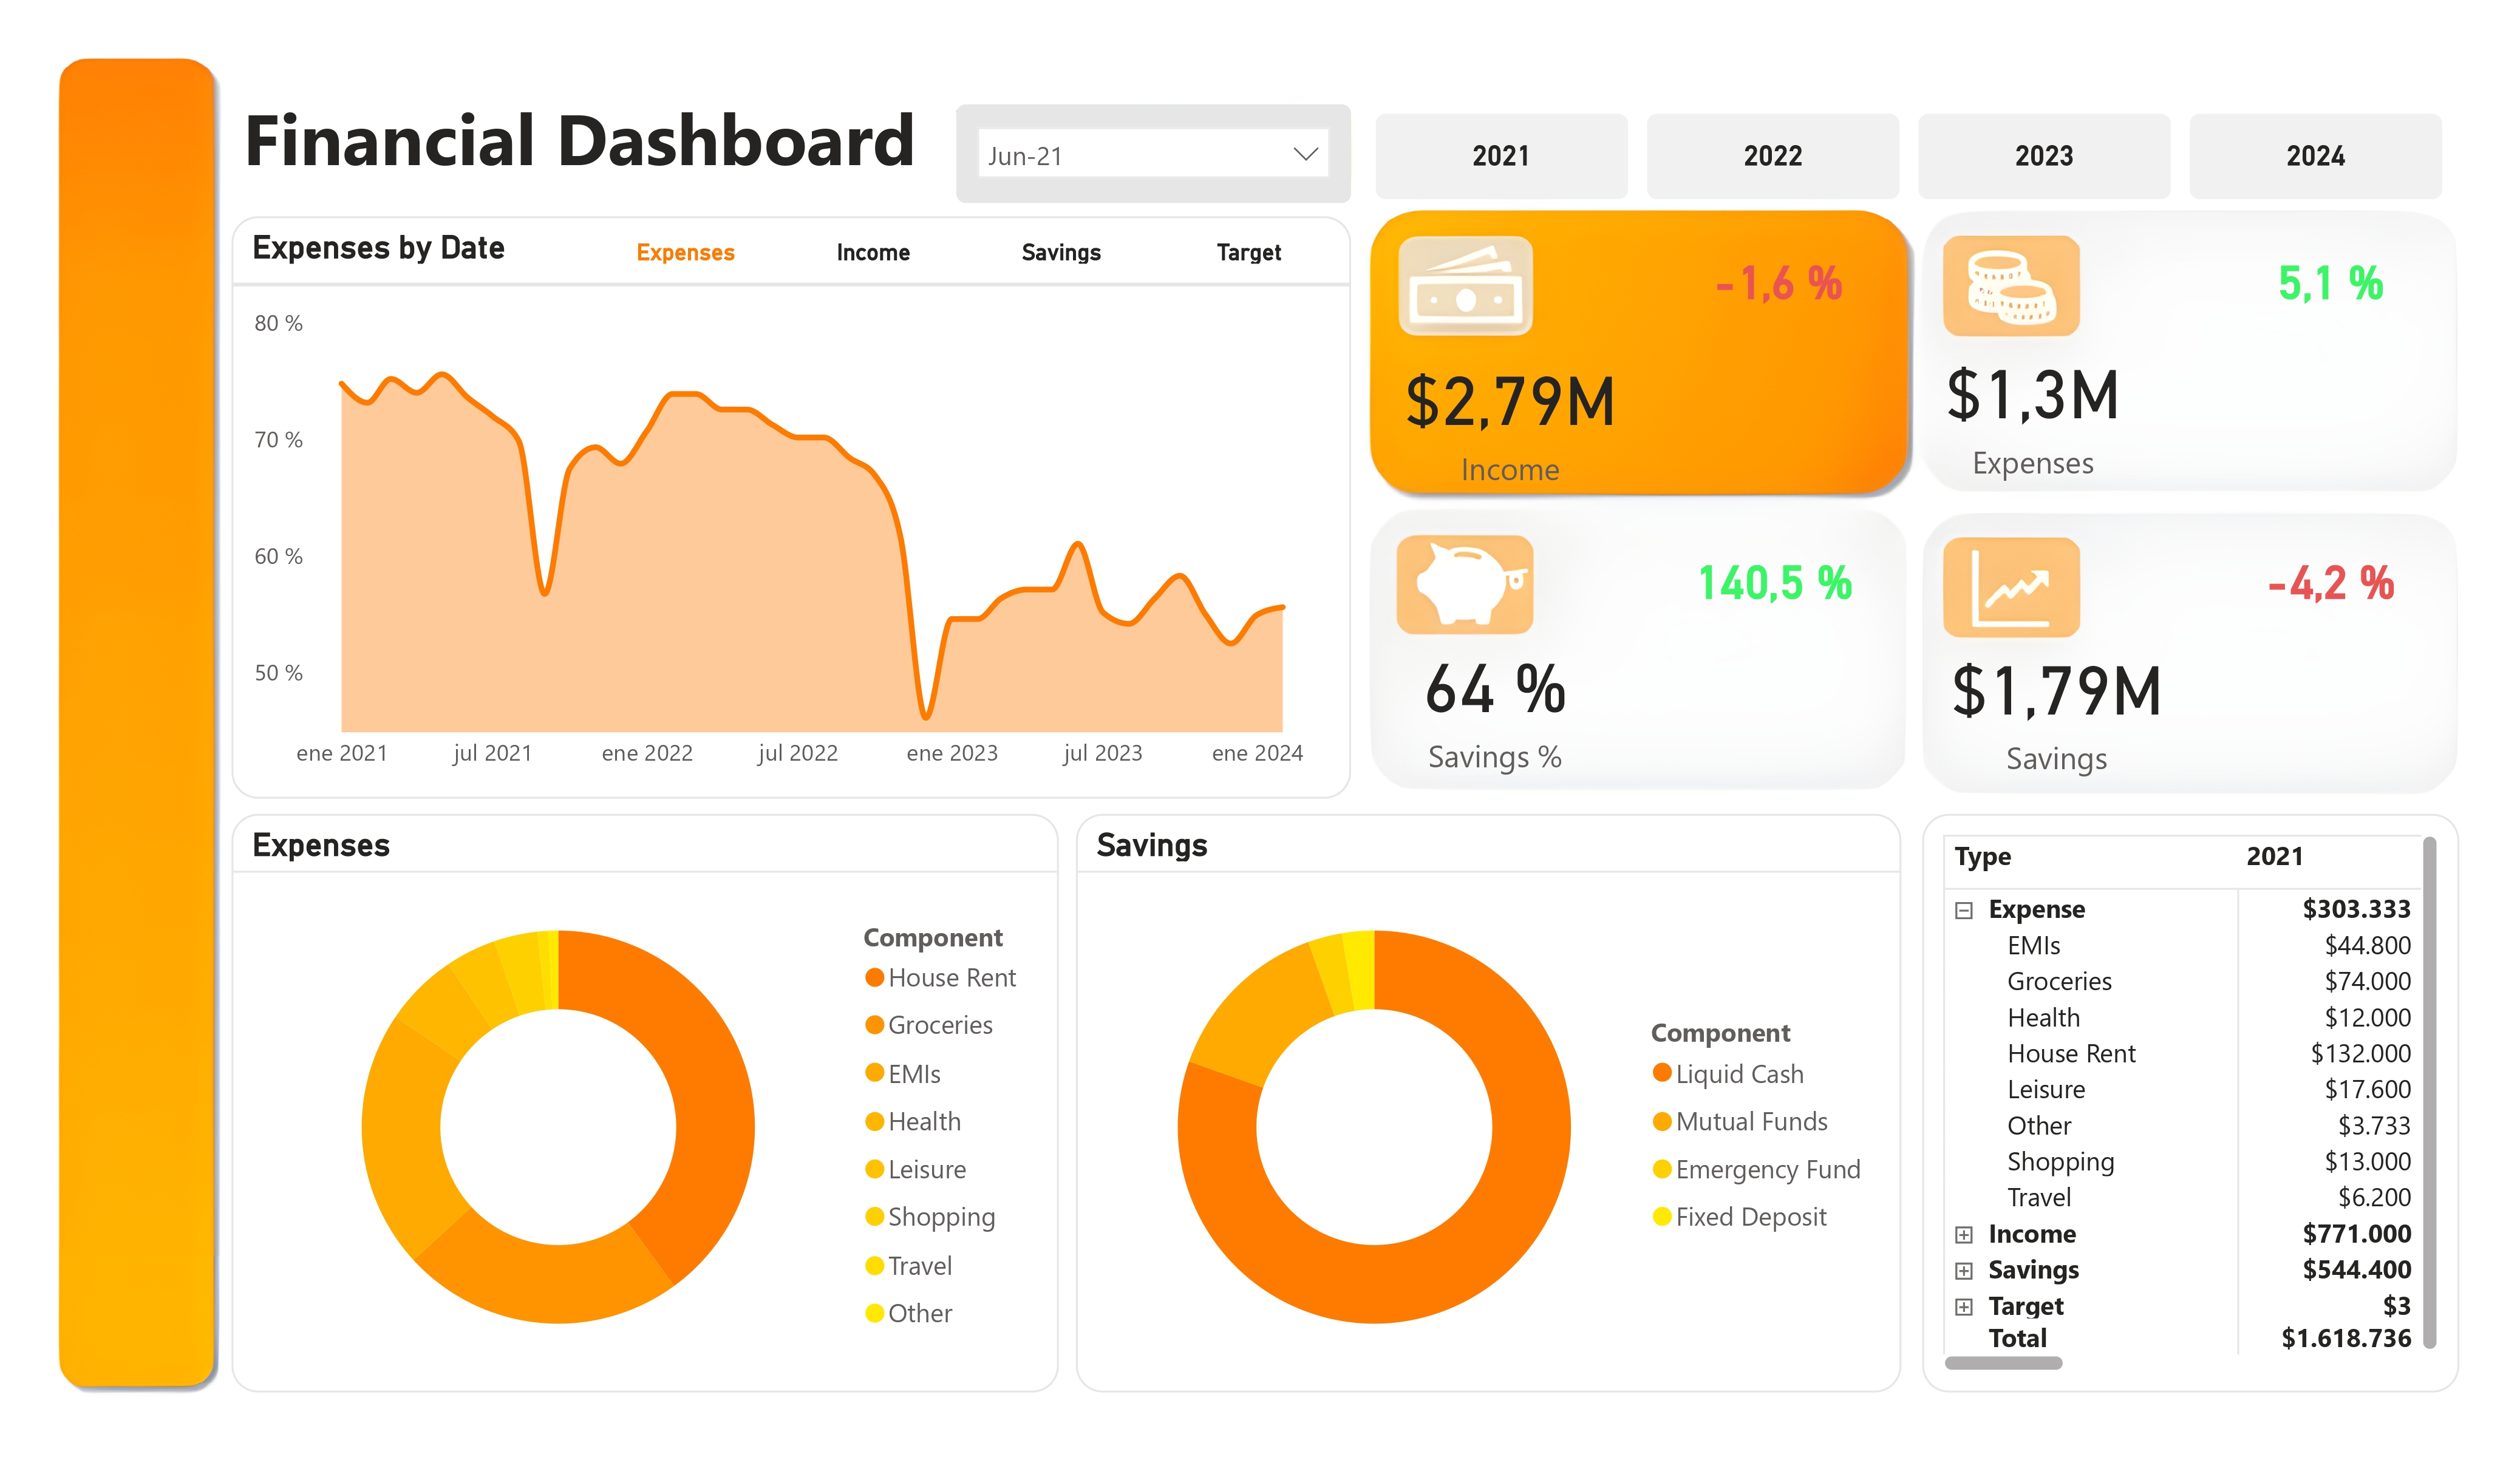

The dashboard page shown, as its layout file describes it:
{"tool":"powerbi","page":{"name":"Financial Dashboard","canvas":[1280,720],"ordinal":0},"visuals":[{"type":"advancedSlicerVisual","fields":{"Values":["Financial Dataset.Year"]},"box":[696.3,31,574.8,55],"z":0},{"type":"donutChart","title":"Expenses","fields":{"Y":["Financial Dataset.Total Amount"],"Category":["Financial Dataset.Component"]},"box":[97.6,405.4,436.4,304.3],"z":1000},{"type":"donutChart","title":"Savings","fields":{"Y":["Financial Dataset.Savings"],"Category":["Financial Dataset.Component"]},"box":[542.9,405.4,435.5,304.3],"z":2000},{"type":"pivotTable","fields":{"Values":["Financial Dataset.Total Amount"],"Columns":["Financial Dataset.Year"],"Rows":["Financial Dataset.Type","Financial Dataset.Component"]},"box":[989.1,405.4,283,304.3],"z":3000},{"type":"lineChart","fields":{"Category":["Financial Dataset.Date"],"Y":["Financial Dataset.Line Chart Measure"]},"box":[97.6,90.5,590.8,306],"z":4000},{"type":"advancedSlicerVisual","fields":{"Values":["Line Selection Table.Type"]},"box":[288.3,88.7,399.2,39],"z":5000},{"type":"slicer","fields":{"Values":["Selected Date.MonthYear"]},"box":[480,30.9,208.2,51.8],"z":6000},{"type":"textbox","box":[99.1,18.2,380.9,64.5],"z":7000},{"type":"card","fields":{"Values":["Financial Dataset.Income"]},"box":[696.4,144.5,151.8,99.1],"z":8000},{"type":"card","fields":{"Values":["Financial Dataset.Income Monthly Growth"]},"box":[863.6,95.5,98.2,57.3],"z":9000},{"type":"card","fields":{"Values":["Financial Dataset.Savings %"]},"box":[688.2,295.5,151.8,101.8],"z":10000},{"type":"card","fields":{"Values":["Financial Dataset.Expenses"]},"box":[970.9,138.2,152.7,105.5],"z":11000},{"type":"card","fields":{"Values":["Financial Dataset.Savings"]},"box":[989.1,297.3,141.8,100],"z":12000},{"type":"card","fields":{"Values":["Financial Dataset.Expenses Monthly Growth"]},"box":[1154.5,95.5,98.2,57.3],"z":13000},{"type":"card","fields":{"Values":["Financial Dataset.Savings Monthly Growth"]},"box":[1154.5,252.7,98.2,58.2],"z":14000},{"type":"card","fields":{"Values":["Financial Dataset.Expenses / Savings"]},"box":[861.8,252.7,98.2,58.2],"z":15000}]}

Visuals, with their boxes in screenshot pixels (x1, y1, x2, y2):
advancedSlicerVisual - Financial Dataset.Year: [1367, 104, 2457, 209]
"Expenses" donutChart: [231, 815, 1059, 1392]
"Savings" donutChart: [1076, 815, 1902, 1392]
pivotTable - Financial Dataset.Total Amount x Financial Dataset.Year: [1922, 815, 2459, 1392]
lineChart - Financial Dataset.Date x Financial Dataset.Line Chart Measure: [231, 217, 1352, 798]
advancedSlicerVisual - Line Selection Table.Type: [593, 214, 1350, 288]
slicer - Selected Date.MonthYear: [956, 104, 1352, 202]
textbox: [234, 80, 956, 202]
card - Financial Dataset.Income: [1367, 320, 1655, 508]
card - Financial Dataset.Income Monthly Growth: [1684, 226, 1871, 335]
card - Financial Dataset.Savings %: [1352, 606, 1640, 800]
card - Financial Dataset.Expenses: [1888, 308, 2178, 508]
card - Financial Dataset.Savings: [1922, 610, 2191, 800]
card - Financial Dataset.Expenses Monthly Growth: [2236, 226, 2423, 335]
card - Financial Dataset.Savings Monthly Growth: [2236, 525, 2423, 636]
card - Financial Dataset.Expenses / Savings: [1681, 525, 1867, 636]
